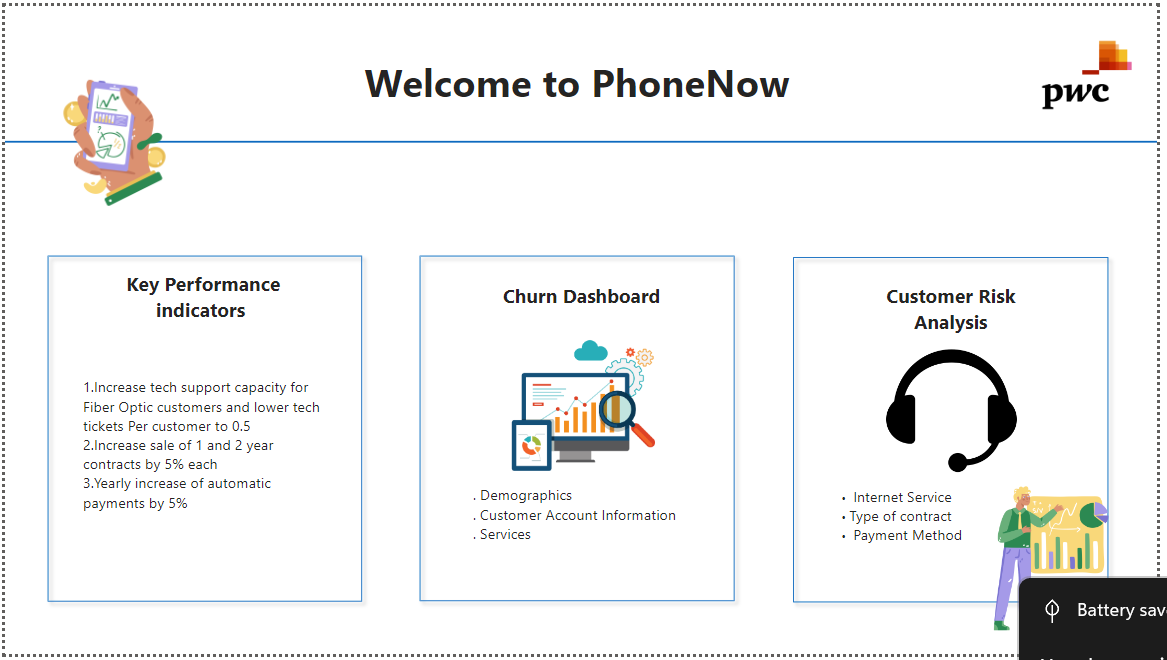

What the dashboard file says about the page in this screenshot:
{"tool":"powerbi","page":{"name":"Page 1","canvas":[1280,720],"ordinal":0},"visuals":[{"type":"textbox","box":[368.3,50,546.7,70],"z":0},{"type":"shape","box":[0,135,1280,31.7],"z":1000},{"type":"shape","box":[37.5,267.5,367.5,402.5],"z":2000},{"type":"shape","box":[866.7,270,368.3,401.7],"z":3000},{"type":"shape","box":[452,268,368,402],"z":4000},{"type":"textbox","box":[94,288,254,72],"z":5000},{"type":"textbox","box":[82,406,286,190],"z":6000},{"type":"textbox","box":[535.7,301.4,211.4,45.7],"z":7000},{"type":"textbox","box":[514.3,527.1,254.3,85.7],"z":8000},{"type":"image","box":[502.9,360,277.1,167.1],"z":9000},{"type":"textbox","box":[939.2,301.2,225.1,68],"z":10000},{"type":"textbox","box":[914.9,527.9,192.7,95.5],"z":11000},{"type":"image","box":[957,369.2,189.4,158.7],"z":12000},{"type":"image","box":[1068.3,528.3,188.3,170],"z":13000},{"type":"image","box":[21.7,76.7,200,150],"z":14000},{"type":"image","box":[1146.7,25,110,103.3],"z":15000}]}

Visuals, with their boxes on the page's 1280x720 design canvas (x1, y1, x2, y2). These are canvas units, not pixel positions in the 1167x660 screenshot, which may show the page scaled, cropped or inside an application window:
textbox: [368, 50, 915, 120]
shape: [0, 135, 1280, 167]
shape: [38, 268, 405, 670]
shape: [867, 270, 1235, 672]
shape: [452, 268, 820, 670]
textbox: [94, 288, 348, 360]
textbox: [82, 406, 368, 596]
textbox: [536, 301, 747, 347]
textbox: [514, 527, 769, 613]
image: [503, 360, 780, 527]
textbox: [939, 301, 1164, 369]
textbox: [915, 528, 1108, 623]
image: [957, 369, 1146, 528]
image: [1068, 528, 1257, 698]
image: [22, 77, 222, 227]
image: [1147, 25, 1257, 128]
